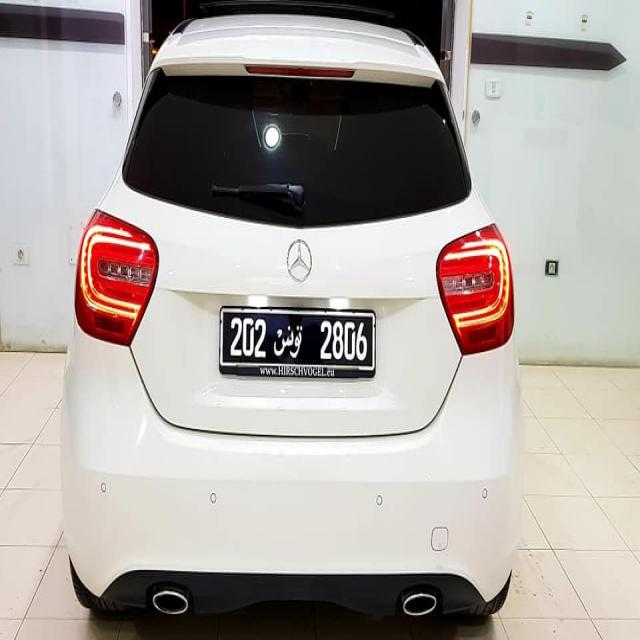LP: (220, 307, 375, 369)
